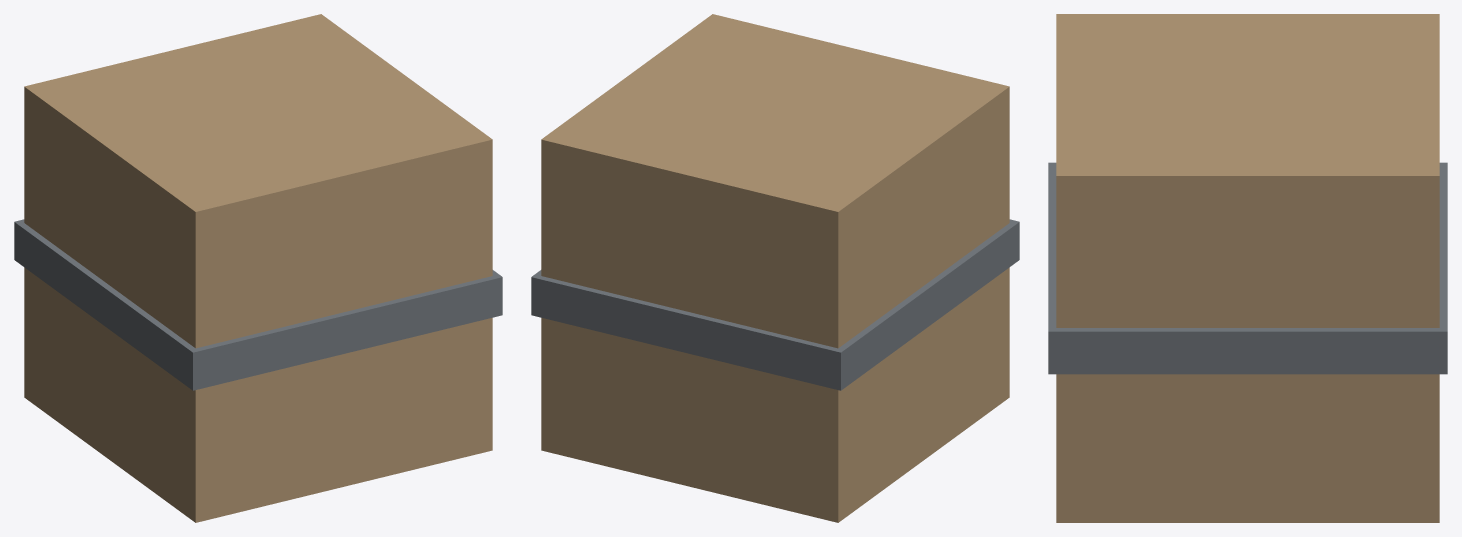
File: wooden_crate.glb
3 views of the same model, side by side, from view 1: azimuth 30°, elevation 25°; view 2: azimuth 150°, elevation 25°; view 3: azimuth 270°, elevation 25° (orthographic). The views are drawn at different scales.
Parts seen in each view (by area): view 1: WoodenCrate; view 2: WoodenCrate; view 3: WoodenCrate.
Part boxes in pixels (box(x1,y1,x2,y2)): WoodenCrate: box(14, 14, 502, 522); WoodenCrate: box(531, 14, 1019, 522); WoodenCrate: box(1048, 14, 1447, 522).
Size of the model in its own units: 0.9384 by 0.9 by 0.9384.
